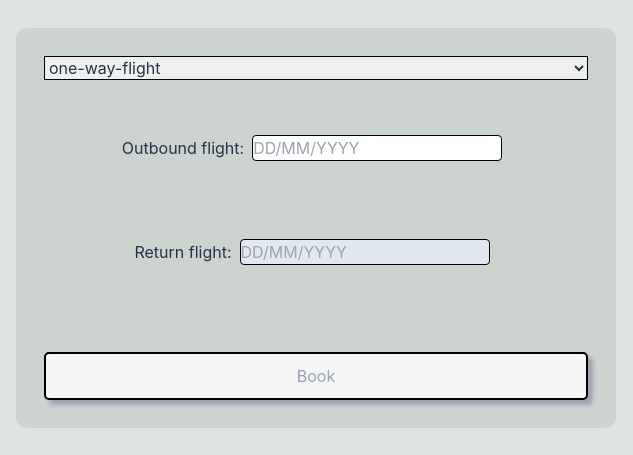
Test: FlightBooker component › should create booking message for the one-way flight with correct date
In the field named "outbound date": (377, 148) [252,135,502,161], type "30/12/2024"
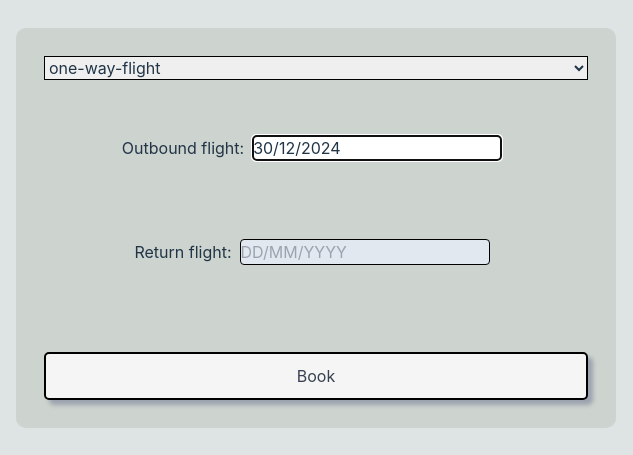
Click the button: (316, 376) [44,352,588,400]
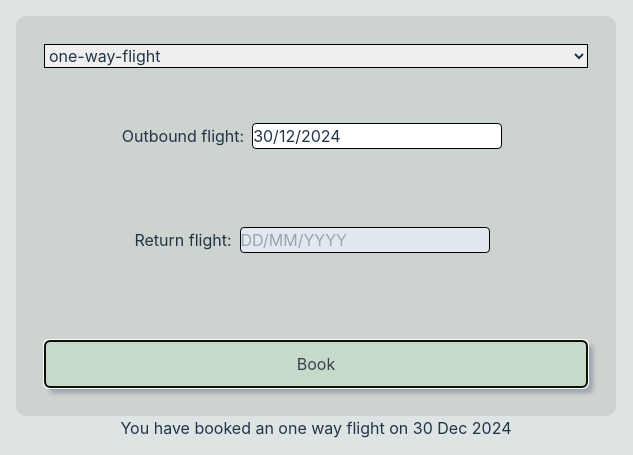
Check: the text named "message" reads "You have booked an one way flight on 30 Dec 2024", box [120,418,512,438]
